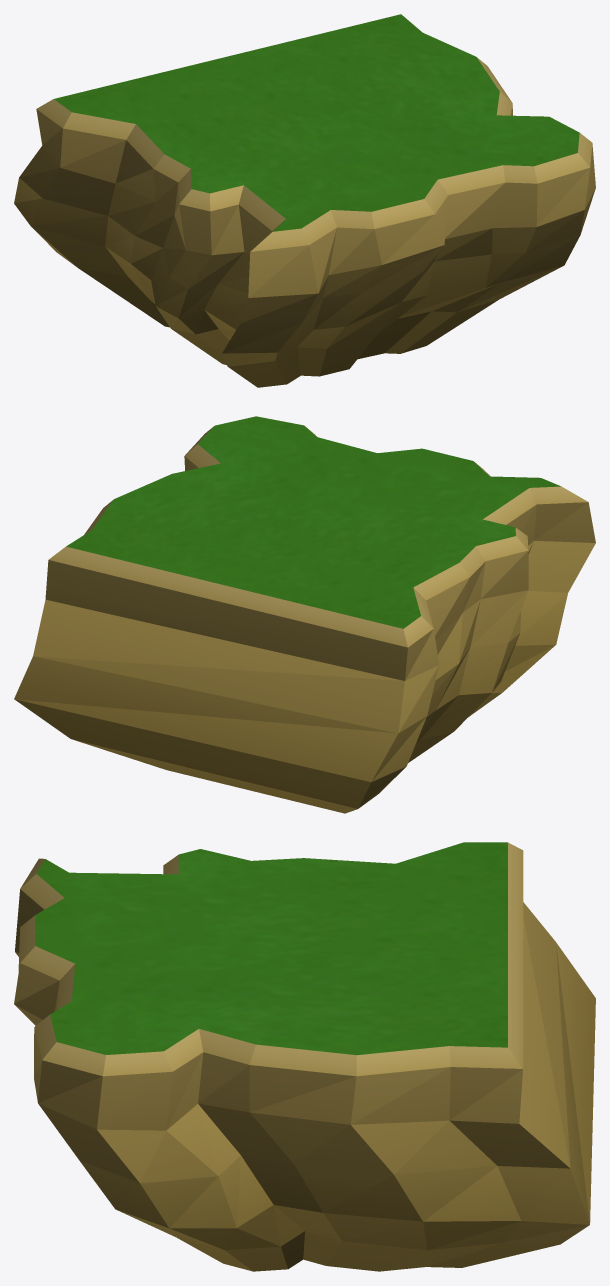
Rendered from PlatformGround_02.FBX.
3 views of the same model, one above another, from view 1: azimuth 30°, elevation 25°; view 2: azimuth 150°, elevation 25°; view 3: azimuth 270°, elevation 25° (orthographic). The views are drawn at different scales.
Parts seen in each view (by area): view 1: Object022; view 2: Object022; view 3: Object022.
Boxes of the visible parts, left/top/right/bottom form: Object022: left=14, top=14, right=595, bottom=387; Object022: left=14, top=416, right=595, bottom=813; Object022: left=14, top=842, right=595, bottom=1271.
Size of the model in its own units: 178 by 95.59 by 186.
